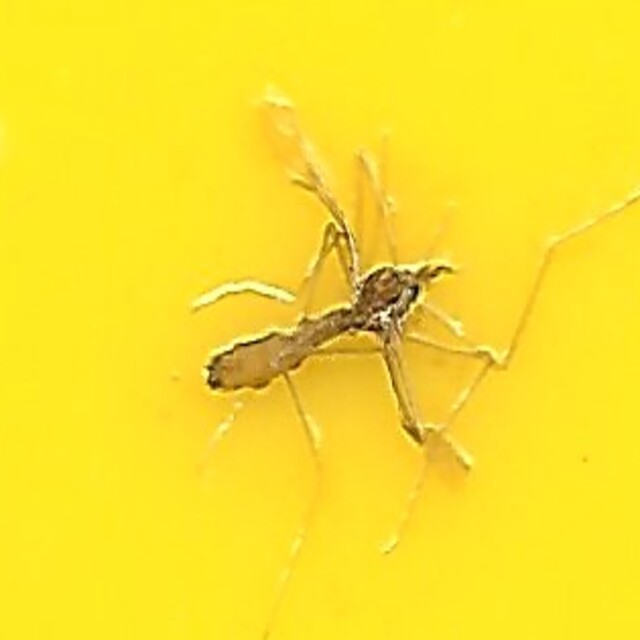Nematocera: (203, 247, 437, 393)
